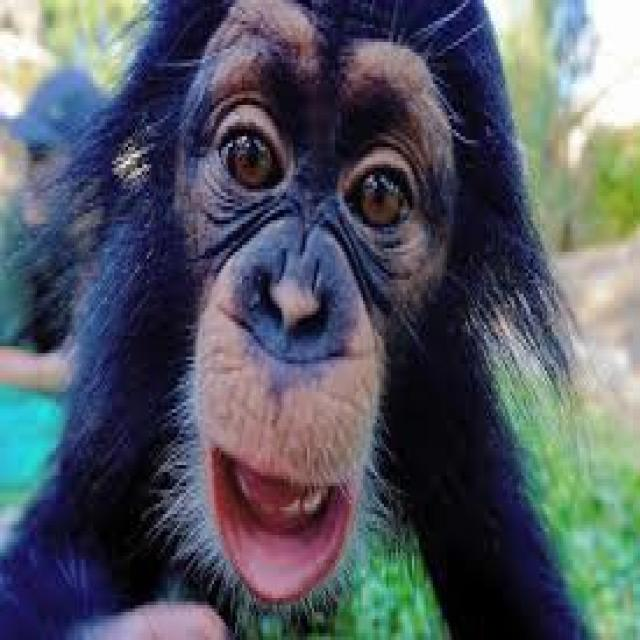chimpanzee: (0, 0, 584, 637)
